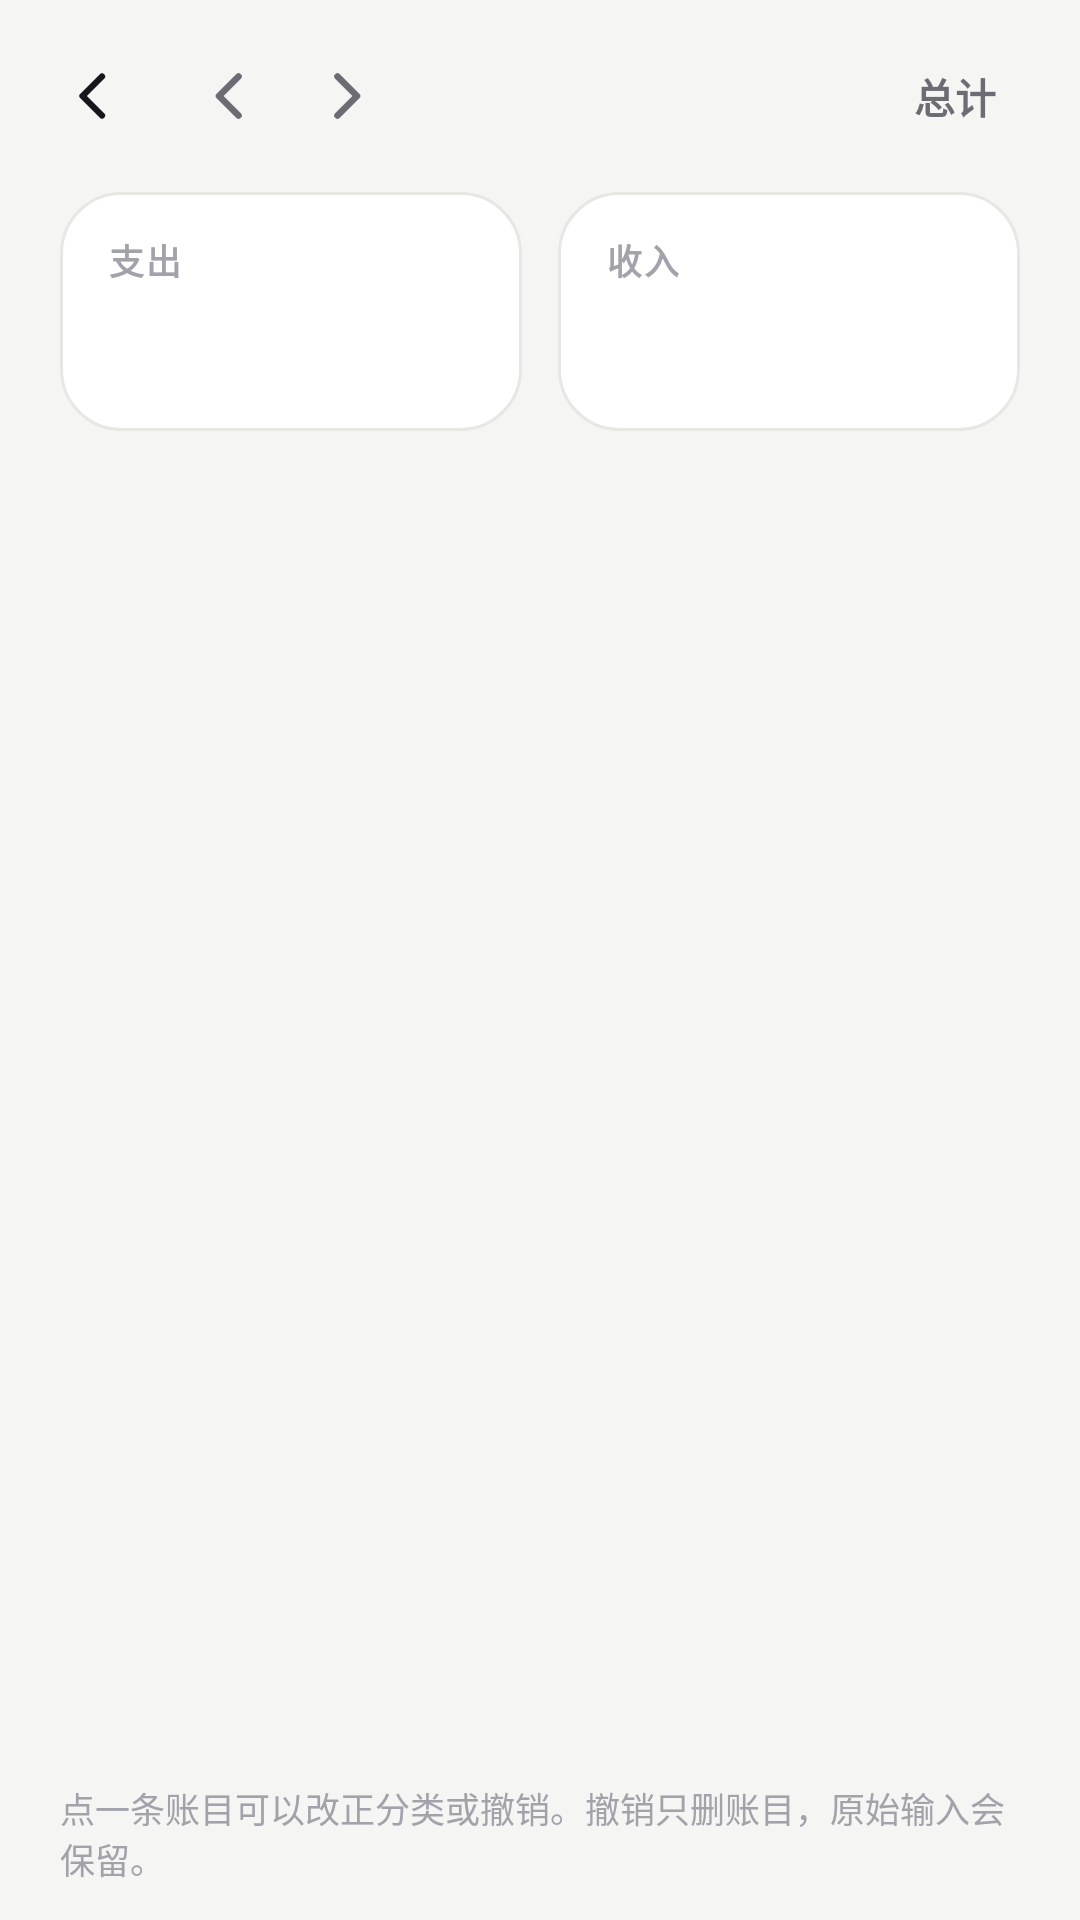

Icon click points for this 1080px×1920px phone screenshot, format [x,y]:
上一个月: [228,96]
下一个月: [347,96]
返回: [92,96]
